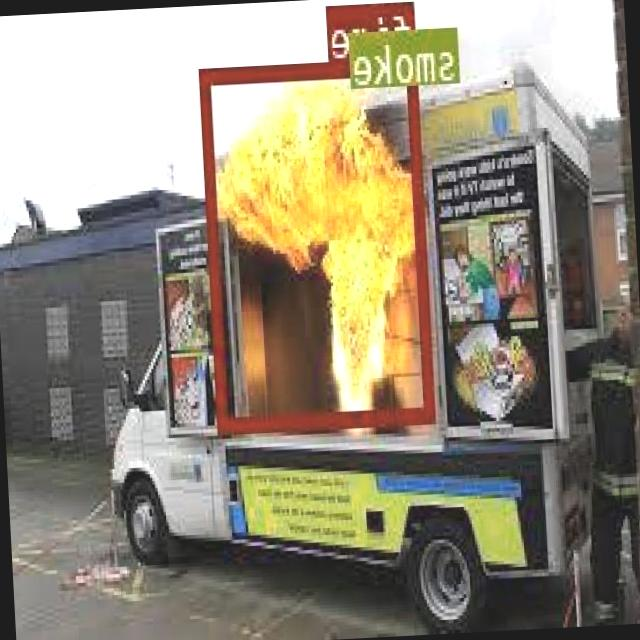fire: (202, 56, 436, 431)
smoke: (424, 24, 462, 78)
